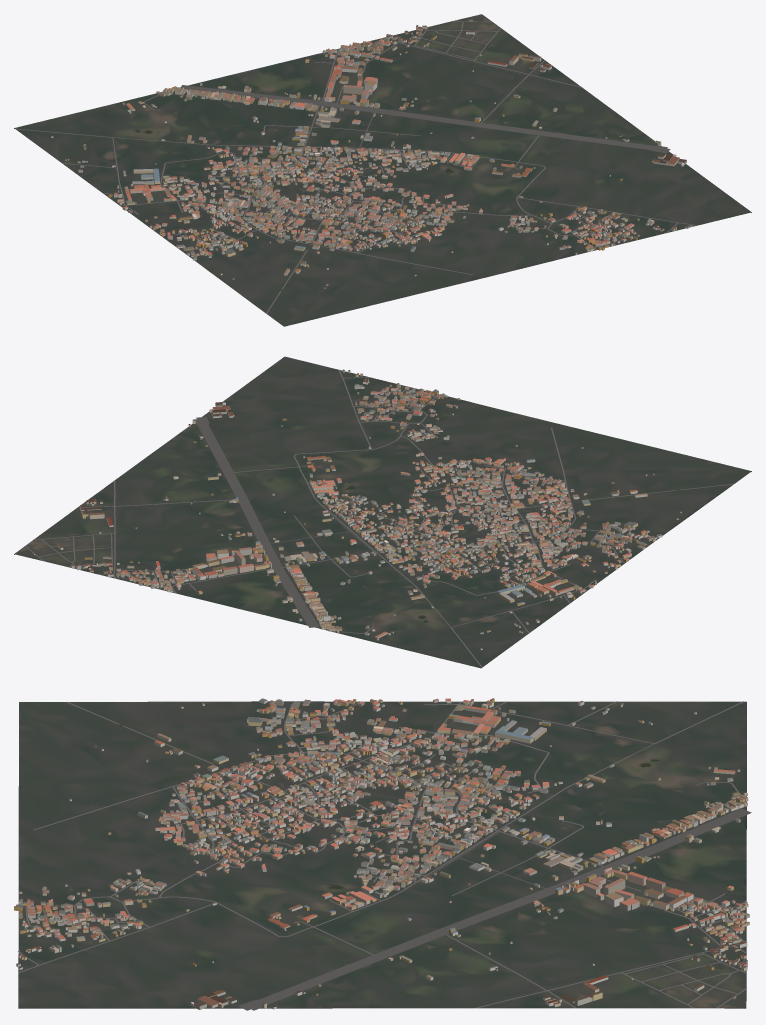
The picture shows the model from 3 angles, top to bottom: view 1: azimuth 30°, elevation 25°; view 2: azimuth 150°, elevation 25°; view 3: azimuth 270°, elevation 25°; orthographic projection. The views are drawn at different scales.
Parts seen in each view (by area): view 1: ground, buildings, roads; view 2: ground, buildings, roads; view 3: ground, buildings, roads.
Boxes of the visible parts, x1,y1,x2,y2 form: ground: (14,14,751,326); buildings: (51,19,692,288); roads: (15,21,696,313); ground: (14,356,751,668); buildings: (32,369,681,650); roads: (25,369,733,667); ground: (18,701,746,1008); buildings: (14,698,749,1009); roads: (18,701,751,1010).
Bounding box in the file's own units: 1413 × 23.75 × 1421.
